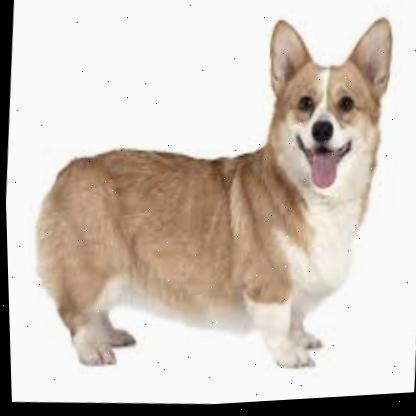dog: (19, 0, 406, 391)
